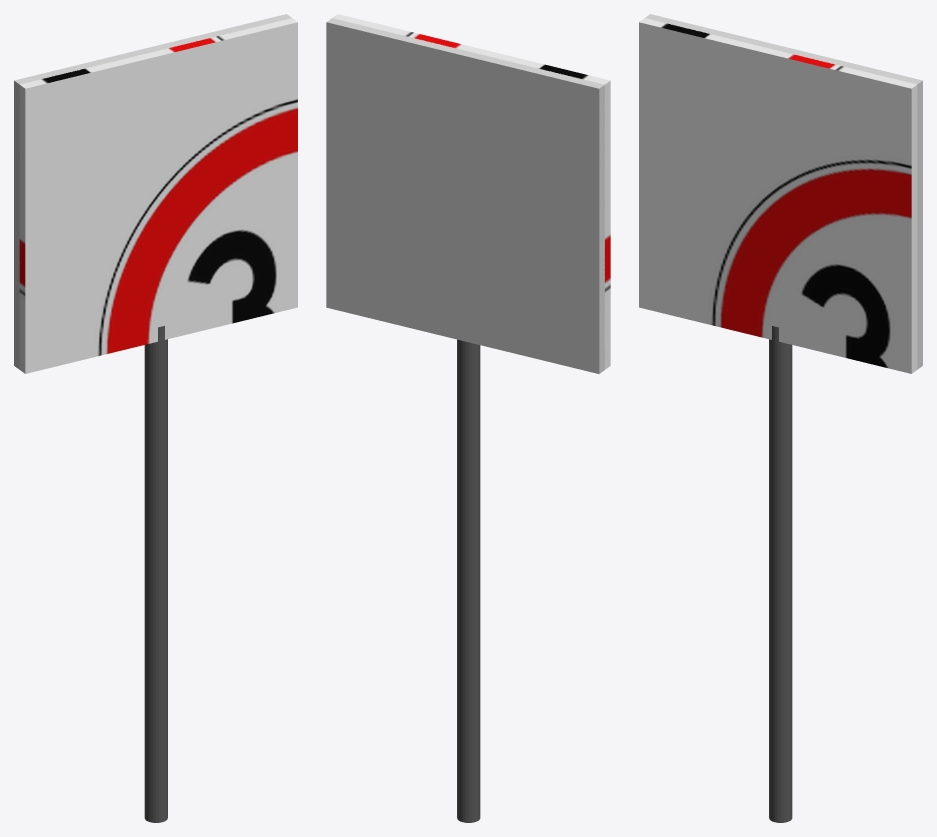
Rendered from teknofest_sign_hiz_siniri_30.fbx.
3 renders of one model, left to right at view 1: azimuth 30°, elevation 25°; view 2: azimuth 150°, elevation 25°; view 3: azimuth 330°, elevation 25°, orthographic.
Parts seen in each view (by area): view 1: teknofest_sign_hiz_siniri_30_board, teknofest_sign_hiz_siniri_30_pole, teknofest_sign_hiz_siniri_30_back; view 2: teknofest_sign_hiz_siniri_30_back, teknofest_sign_hiz_siniri_30_pole, teknofest_sign_hiz_siniri_30_board; view 3: teknofest_sign_hiz_siniri_30_board, teknofest_sign_hiz_siniri_30_pole, teknofest_sign_hiz_siniri_30_back.
Boxes of the visible parts, left/top/right/bottom form: teknofest_sign_hiz_siniri_30_board: left=19, top=18, right=297, bottom=373; teknofest_sign_hiz_siniri_30_pole: left=144, top=325, right=167, bottom=822; teknofest_sign_hiz_siniri_30_back: left=14, top=14, right=291, bottom=369; teknofest_sign_hiz_siniri_30_back: left=326, top=18, right=604, bottom=373; teknofest_sign_hiz_siniri_30_pole: left=457, top=339, right=480, bottom=822; teknofest_sign_hiz_siniri_30_board: left=333, top=14, right=610, bottom=369; teknofest_sign_hiz_siniri_30_board: left=639, top=18, right=917, bottom=373; teknofest_sign_hiz_siniri_30_pole: left=769, top=325, right=792, bottom=822; teknofest_sign_hiz_siniri_30_back: left=645, top=14, right=922, bottom=369.
Bounding box in the file's own units: 95 × 255 × 7.05.
Materials: 3 (1 with a texture image).
